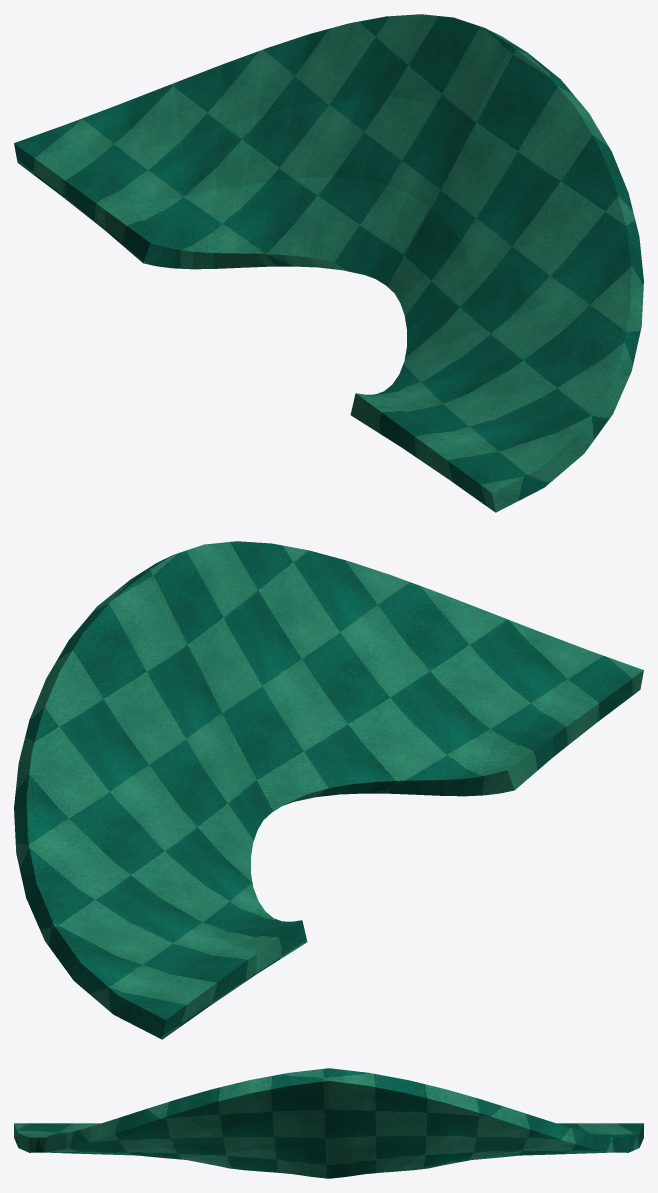
The picture shows the model from 3 angles, top to bottom: view 1: azimuth 30°, elevation 25°; view 2: azimuth 150°, elevation 25°; view 3: azimuth 270°, elevation 25°; orthographic projection. The views are drawn at different scales.
Visible parts, largest first — view 1: Curve_glb; view 2: Curve_glb; view 3: Curve_glb.
Boxes of the visible parts, <box> form: Curve_glb: <box>14,14,643,512</box>; Curve_glb: <box>14,541,643,1039</box>; Curve_glb: <box>14,1068,643,1178</box>.
Size of what is drawn, in the model's own units: 4.81 by 3.9 by 14.
Materials: 1 (1 with a texture image).
